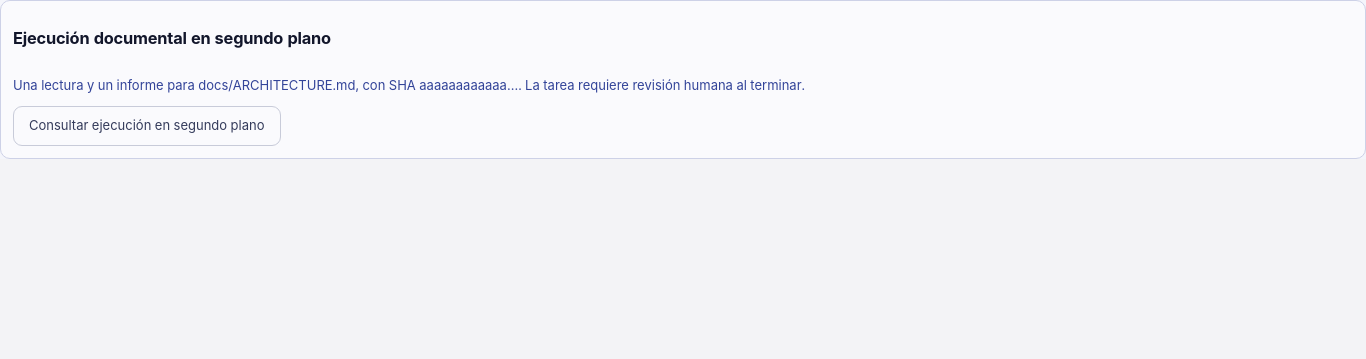
Test case: durable document queue › shows an old persisted job without creating a new one
What coordinates should you click on to do the following:
click the button "Consultar ejecución en segundo plano"
I would click on:
 (147, 126)
Its box is [13, 106, 280, 146].
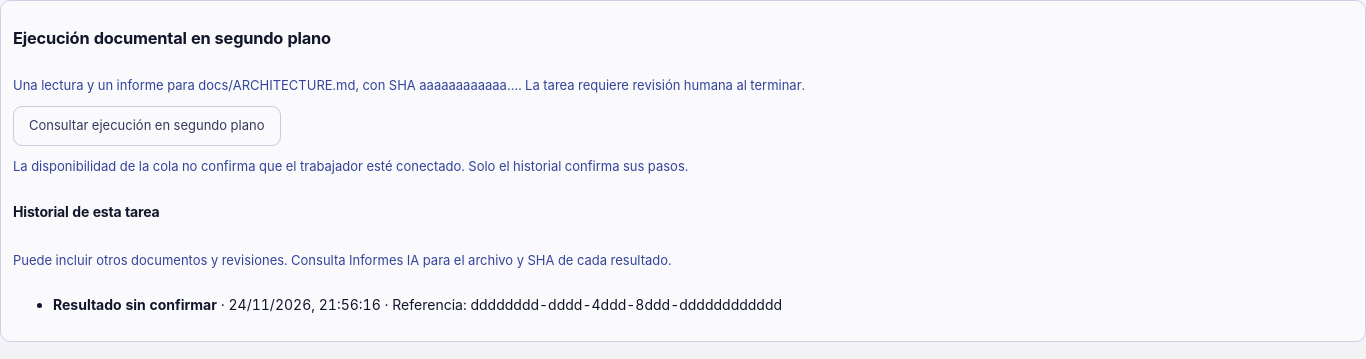
Expected: the text "Resultado sin confirmar" is shown, [53, 296, 217, 313]
